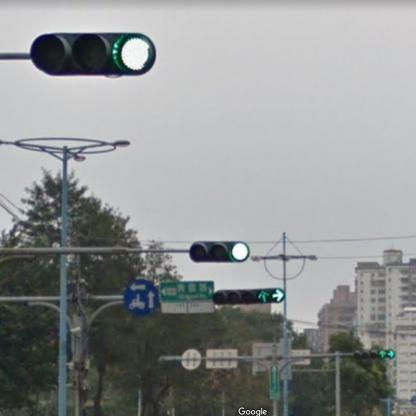Green Light: (32, 34, 156, 75), (189, 239, 249, 263), (213, 289, 286, 305), (349, 347, 396, 361)
